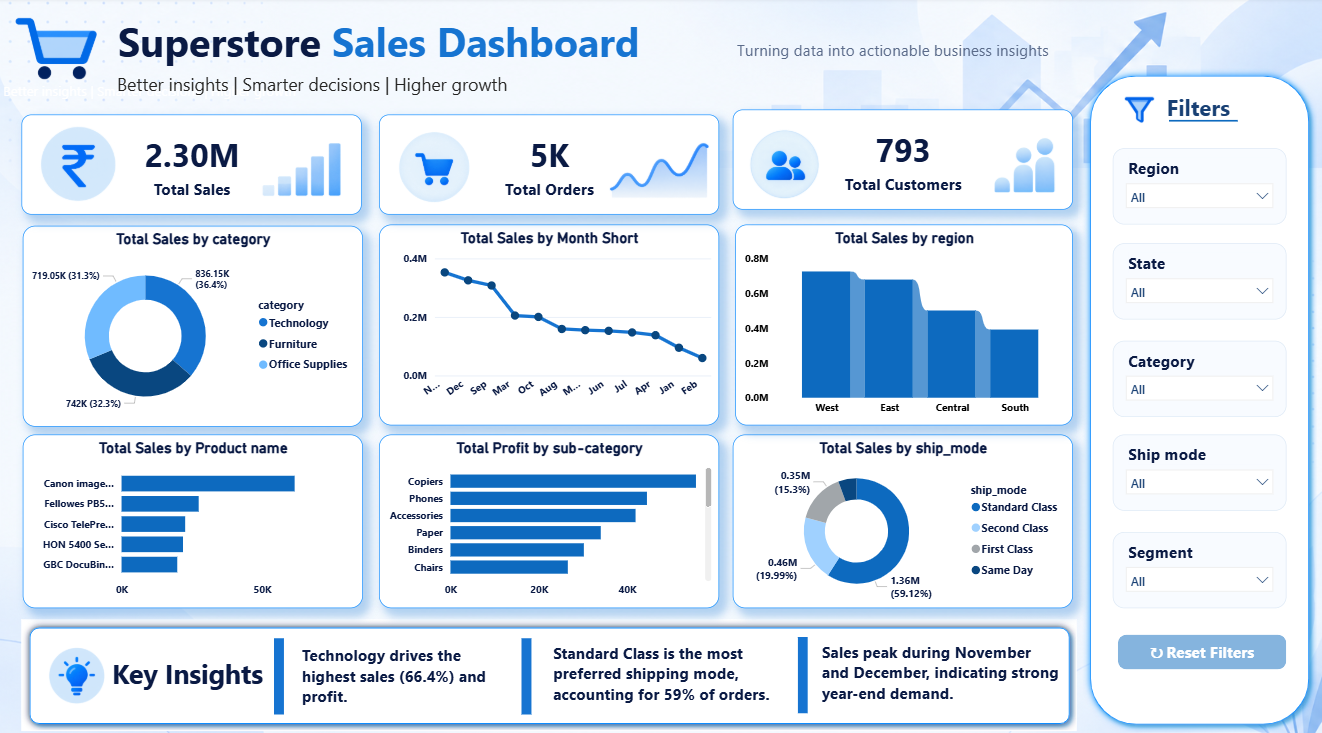

The page's visual inventory and layout, read from the dashboard file:
{"tool":"powerbi","page":{"name":"Page 1","canvas":[1600,900],"ordinal":0},"visuals":[{"type":"shape","box":[27.1,751,1272.8,134.2],"z":0},{"type":"textbox","box":[0,15.1,876.2,120.6],"z":1000},{"type":"shape","box":[1307.5,86,282,800.8],"z":2000},{"type":"donutChart","fields":{"Category":["sample_superstore.category"],"Y":["sample_superstore.Total Sales"]},"box":[28.7,276,410.2,242.8],"z":3000},{"type":"lineChart","fields":{"Y":["sample_superstore.Total Sales"],"Category":["sample_superstore.Month Short"]},"box":[458.4,274.5,410.2,242.8],"z":4000},{"type":"barChart","title":"Total Sales by Product name","fields":{"Category":["sample_superstore.product_name"],"Y":["sample_superstore.Total Sales"]},"box":[28.7,527.8,410.2,209.6],"z":5000},{"type":"clusteredBarChart","title":"Total Profit by sub-category","fields":{"Category":["sample_superstore.sub-category"],"Y":["sample_superstore.Total Profit"]},"box":[458.4,527.8,410.2,209.6],"z":6000},{"type":"donutChart","fields":{"Category":["sample_superstore.ship_mode"],"Y":["sample_superstore.Total Sales"]},"box":[885.2,527.8,410.2,209.6],"z":7000},{"type":"columnChart","fields":{"Category":["sample_superstore.region"],"Y":["sample_superstore.Total Sales"]},"box":[888.2,274.5,407.2,242.8],"z":8000},{"type":"slicer","fields":{"Values":["sample_superstore.region"]},"box":[1343.7,182.5,209.6,92],"z":9000},{"type":"image","box":[0,16.6,137.2,90.5],"z":10000},{"type":"textbox","box":[137.2,86,505.2,66.4],"z":11000},{"type":"slicer","fields":{"Values":["sample_superstore.state"]},"box":[1343.7,297.1,209.6,92],"z":12000},{"type":"slicer","fields":{"Values":["sample_superstore.category"]},"box":[1343.7,414.7,209.6,92],"z":13000},{"type":"slicer","fields":{"Values":["sample_superstore.ship_mode"]},"box":[1343.7,527.8,209.6,92],"z":14000},{"type":"slicer","fields":{"Values":["sample_superstore.segment"]},"box":[1343.7,645.4,209.6,92],"z":15000},{"type":"image","box":[1340.7,110.1,70.9,49.8],"z":16000},{"type":"textbox","box":[1396.5,110.1,114.6,61.8],"z":17000},{"type":"card","fields":{"Values":["sample_superstore.Total Sales"]},"box":[27.1,141.8,410.2,120.6],"z":18000},{"type":"shape","box":[476.5,149.3,104.1,89],"z":19000},{"type":"shape","box":[894.3,149.3,104.1,89],"z":20000},{"type":"image","box":[9,143.3,173.4,113.1],"z":21000},{"type":"card","fields":{"Values":["sample_superstore.Total Orders"]},"box":[458.4,141.8,410.2,120.6],"z":22000},{"type":"card","fields":{"Values":["sample_superstore.Total Customers"]},"box":[885.2,135.7,410.2,120.6],"z":23000},{"type":"textbox","box":[131.2,790.2,212.6,60.3],"z":24000},{"type":"image","box":[33.2,772.1,122.2,92],"z":25000},{"type":"shape","box":[1411.5,119.1,82.9,60.3],"z":26000},{"type":"shape","box":[331.8,773.6,12.1,92],"z":27000},{"type":"textbox","box":[360.4,776.6,251.8,87.5],"z":28000},{"type":"shape","box":[963.6,772.1,12.1,92],"z":29000},{"type":"shape","box":[630.4,773.6,12.1,92],"z":30000},{"type":"textbox","box":[663.5,773.6,300.1,93.5],"z":31000},{"type":"textbox","box":[987.8,772.1,297.1,87.5],"z":32000},{"type":"actionButton","box":[1349.7,769.1,203.6,42.2],"z":33000},{"type":"image","box":[716.3,156.8,152.3,99.5],"z":34000},{"type":"image","box":[438.8,146.3,173.4,113.1],"z":35000},{"type":"image","box":[861.1,144.8,173.4,113.1],"z":36000},{"type":"image","box":[1090.3,149.3,286.5,99.5],"z":37000},{"type":"image","box":[283.5,156.8,152.3,99.5],"z":38000},{"type":"textbox","box":[885.2,46.7,423.8,60.3],"z":39000}]}

Visuals, with their boxes in screenshot pixels (x1, y1, x2, y2), scaled from the page's 1600x900 canvas onto the 1322x733 screenshot:
shape: <region>22, 612, 1074, 721</region>
textbox: <region>0, 12, 724, 111</region>
shape: <region>1080, 70, 1313, 722</region>
donutChart - sample_superstore.category x sample_superstore.Total Sales: <region>24, 225, 363, 423</region>
lineChart - sample_superstore.Total Sales x sample_superstore.Month Short: <region>379, 224, 718, 421</region>
"Total Sales by Product name" barChart: <region>24, 430, 363, 601</region>
"Total Profit by sub-category" clusteredBarChart: <region>379, 430, 718, 601</region>
donutChart - sample_superstore.ship_mode x sample_superstore.Total Sales: <region>731, 430, 1070, 601</region>
columnChart - sample_superstore.region x sample_superstore.Total Sales: <region>734, 224, 1070, 421</region>
slicer - sample_superstore.region: <region>1110, 149, 1283, 224</region>
image: <region>0, 14, 113, 87</region>
textbox: <region>113, 70, 531, 124</region>
slicer - sample_superstore.state: <region>1110, 242, 1283, 317</region>
slicer - sample_superstore.category: <region>1110, 338, 1283, 413</region>
slicer - sample_superstore.ship_mode: <region>1110, 430, 1283, 505</region>
slicer - sample_superstore.segment: <region>1110, 526, 1283, 601</region>
image: <region>1108, 90, 1166, 130</region>
textbox: <region>1154, 90, 1249, 140</region>
card - sample_superstore.Total Sales: <region>22, 115, 361, 214</region>
shape: <region>394, 122, 480, 194</region>
shape: <region>739, 122, 825, 194</region>
image: <region>7, 117, 151, 209</region>
card - sample_superstore.Total Orders: <region>379, 115, 718, 214</region>
card - sample_superstore.Total Customers: <region>731, 111, 1070, 209</region>
textbox: <region>108, 644, 284, 693</region>
image: <region>27, 629, 128, 704</region>
shape: <region>1166, 97, 1235, 146</region>
shape: <region>274, 630, 284, 705</region>
textbox: <region>298, 632, 506, 704</region>
shape: <region>796, 629, 806, 704</region>
shape: <region>521, 630, 531, 705</region>
textbox: <region>548, 630, 796, 706</region>
textbox: <region>816, 629, 1062, 700</region>
actionButton: <region>1115, 626, 1283, 661</region>
image: <region>592, 128, 718, 209</region>
image: <region>363, 119, 506, 211</region>
image: <region>711, 118, 855, 210</region>
image: <region>901, 122, 1138, 203</region>
image: <region>234, 128, 360, 209</region>
textbox: <region>731, 38, 1082, 87</region>
